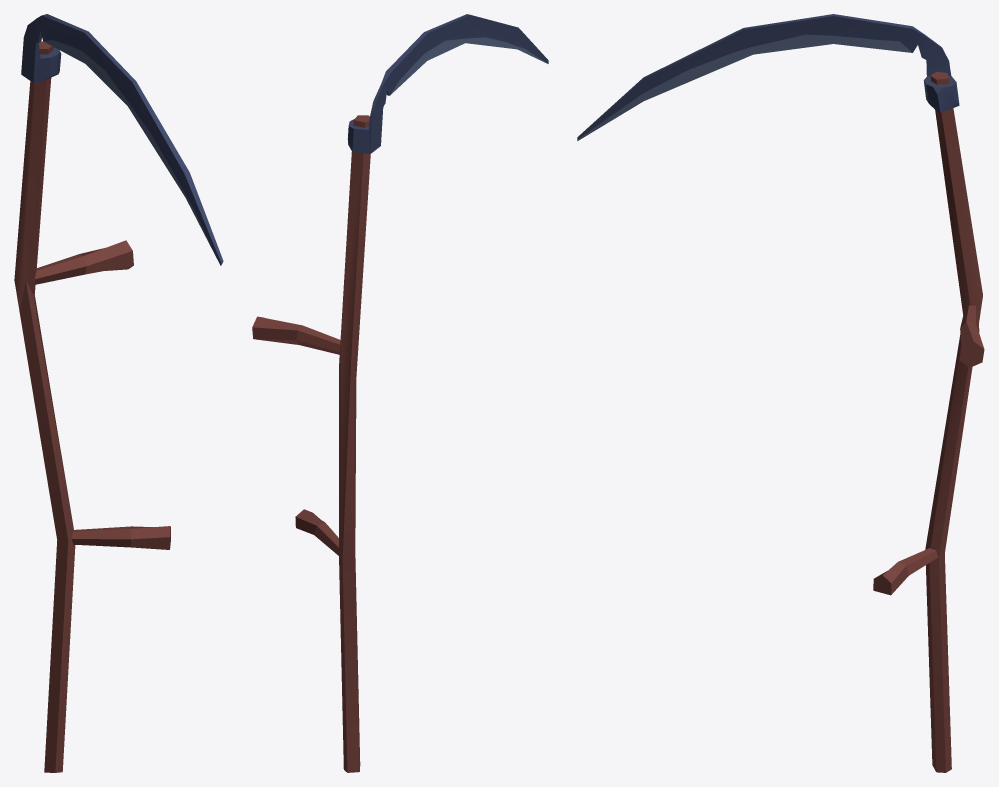
File: Scythe.fbx
The picture shows the model from 3 angles, left to right: view 1: azimuth 30°, elevation 25°; view 2: azimuth 150°, elevation 25°; view 3: azimuth 270°, elevation 25°; orthographic projection. The views are drawn at different scales.
Parts seen in each view (by area): view 1: PoorMan Scythe; view 2: PoorMan Scythe; view 3: PoorMan Scythe.
Part boxes in pixels (box(x1,y1,x2,y2)): PoorMan Scythe: box(14, 14, 223, 772); PoorMan Scythe: box(252, 14, 548, 772); PoorMan Scythe: box(577, 14, 984, 772).
Size of the model in its own units: 30.76 by 196 by 97.33.
